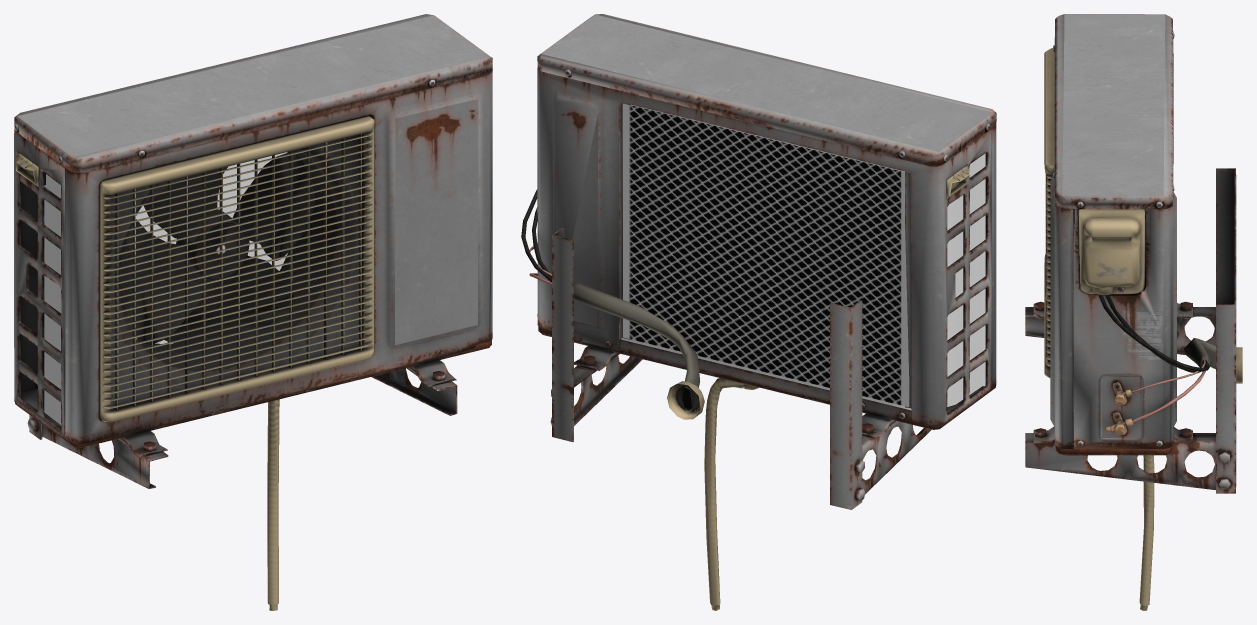
Rendered from exterior_aircon_unit_1k.gltf.
3 renders of one model, left to right at view 1: azimuth 30°, elevation 25°; view 2: azimuth 150°, elevation 25°; view 3: azimuth 270°, elevation 25°, orthographic. The views are drawn at different scales.
Parts seen in each view (by area): view 1: exterior_aircon_unit_rusted; view 2: exterior_aircon_unit_rusted; view 3: exterior_aircon_unit_rusted.
Part boxes in pixels (x1,y1,x2,y2): exterior_aircon_unit_rusted: (14, 14, 492, 610); exterior_aircon_unit_rusted: (521, 14, 996, 610); exterior_aircon_unit_rusted: (1025, 14, 1242, 610).
Size of the model in its own units: 0.8003 by 0.9279 by 0.3742.
2 materials, 2 textured.
